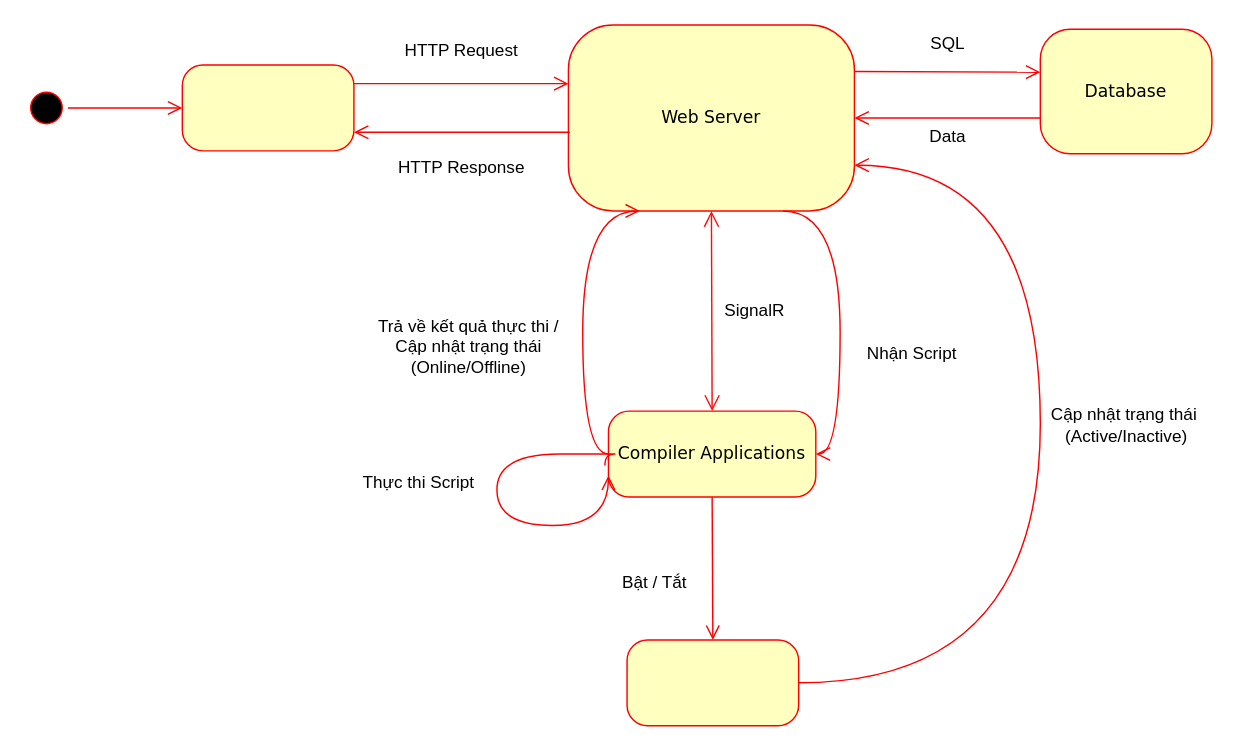
Image size: 1237x751. Some labels were removed from this diagram. The centre of each missing label's shape, as x and y in pixels:
"Applications" belongs at pixel 712 682.
"Browser" belongs at pixel 267 107.
